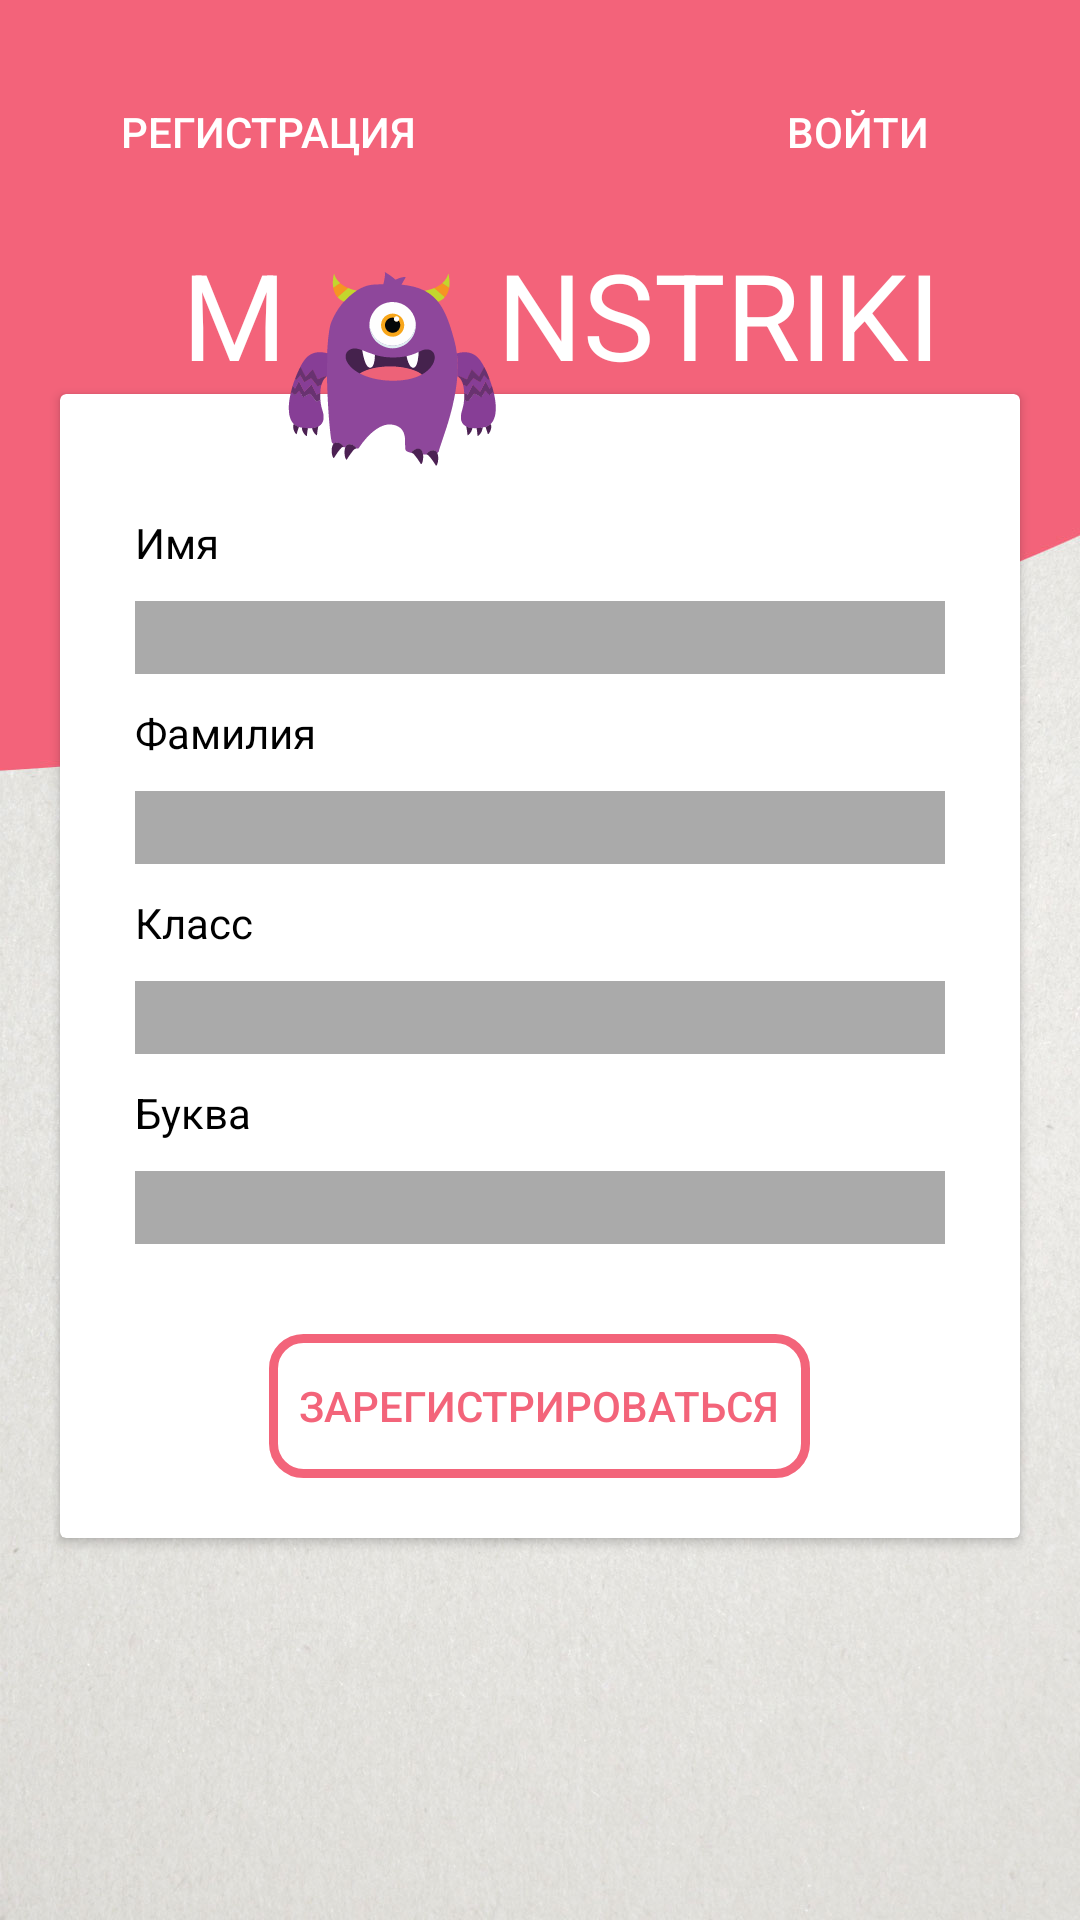

Icons on this 1080px×1920px Android screen, each with the point to tap as (x,y):
monster: (392,369)
